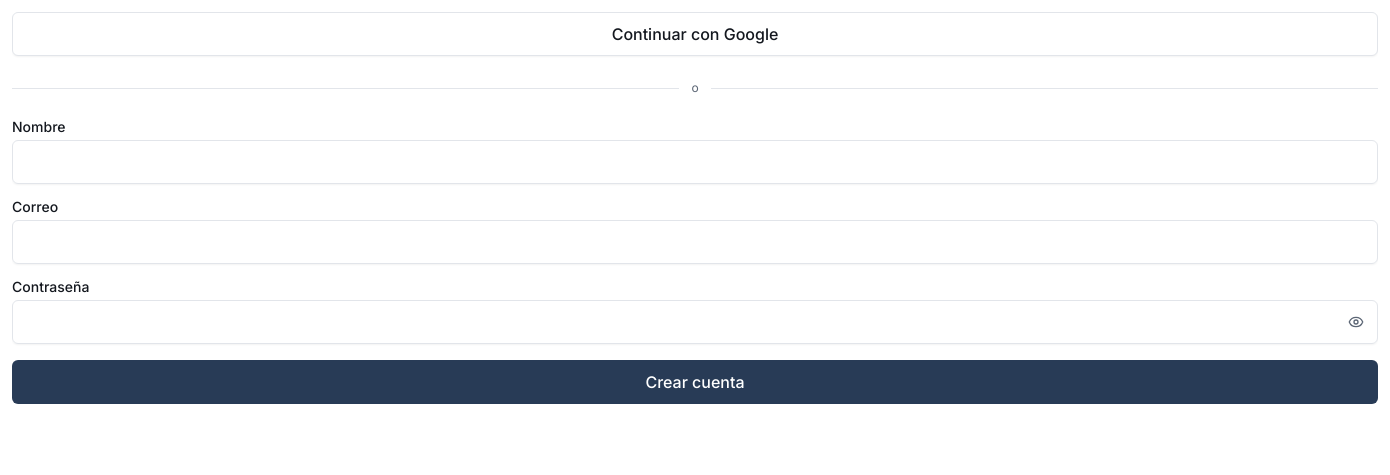
RegistroForm › muestra el error de tres partes del servidor sin códigos técnicos
The width and height of the screenshot is (1390, 475).
Type "Juan" into the field labelled "Nombre" at coordinates (695, 162), box [12,140,1378,184]
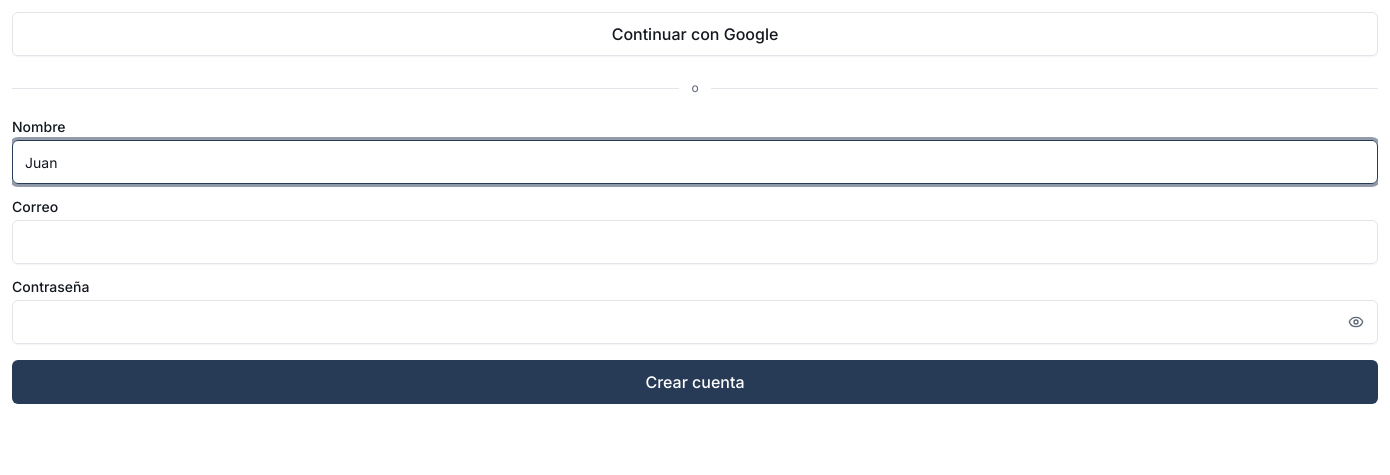
Type "juan@trazio.com.ar" into the field labelled "Correo" at coordinates (695, 242), box [12,220,1378,264]
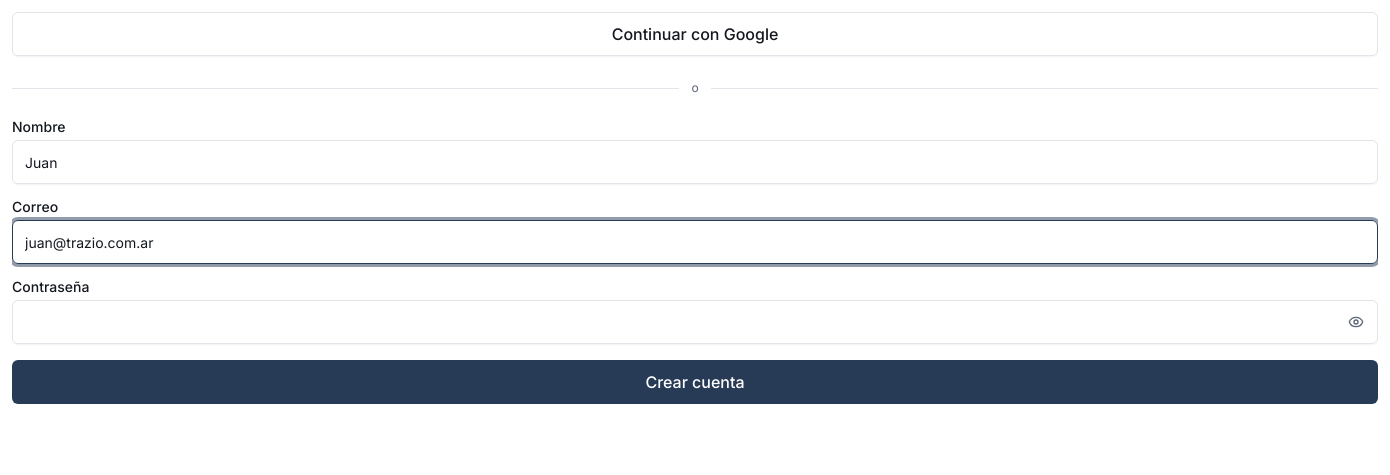
Type "12345678" into the password field labelled "Contraseña" at coordinates (695, 322), box [12,300,1378,344]
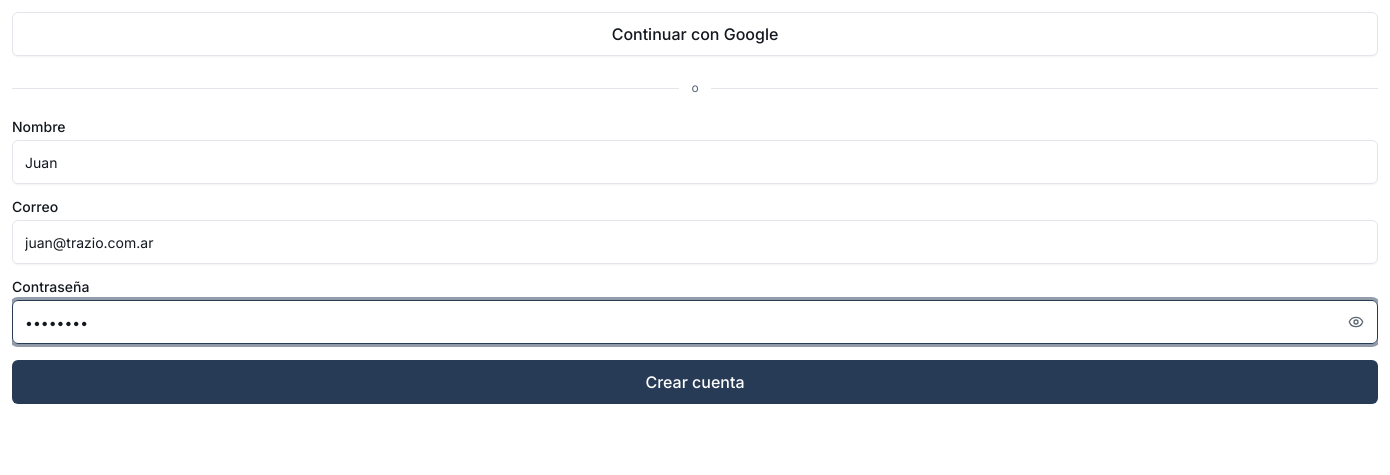
Click the button "Crear cuenta" at coordinates (695, 382), box [12,360,1378,404]
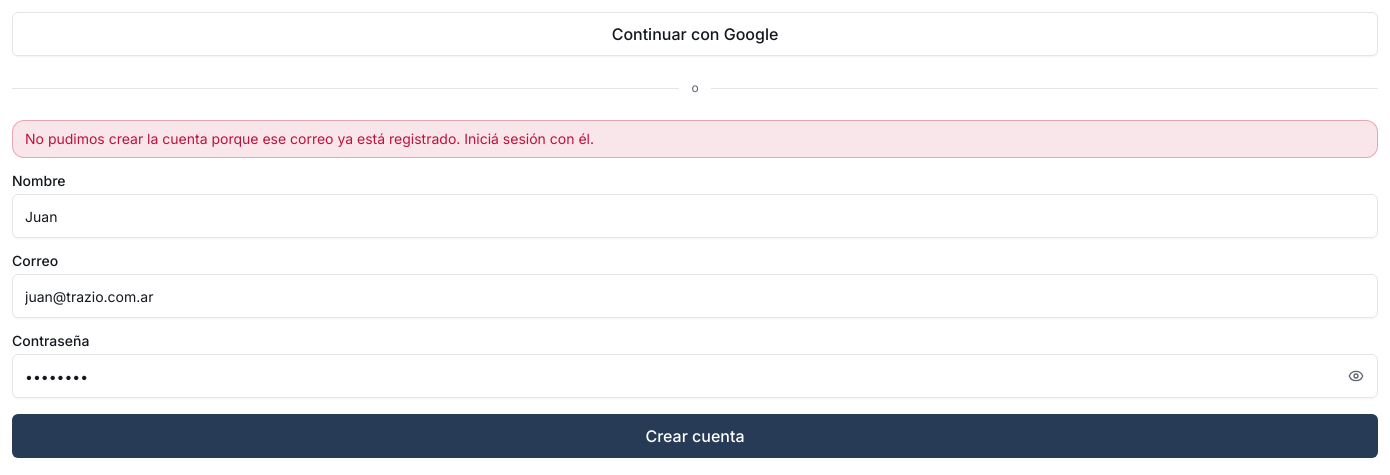
Now the message shows "ese correo ya está registrado", box [25,130,594,147]
